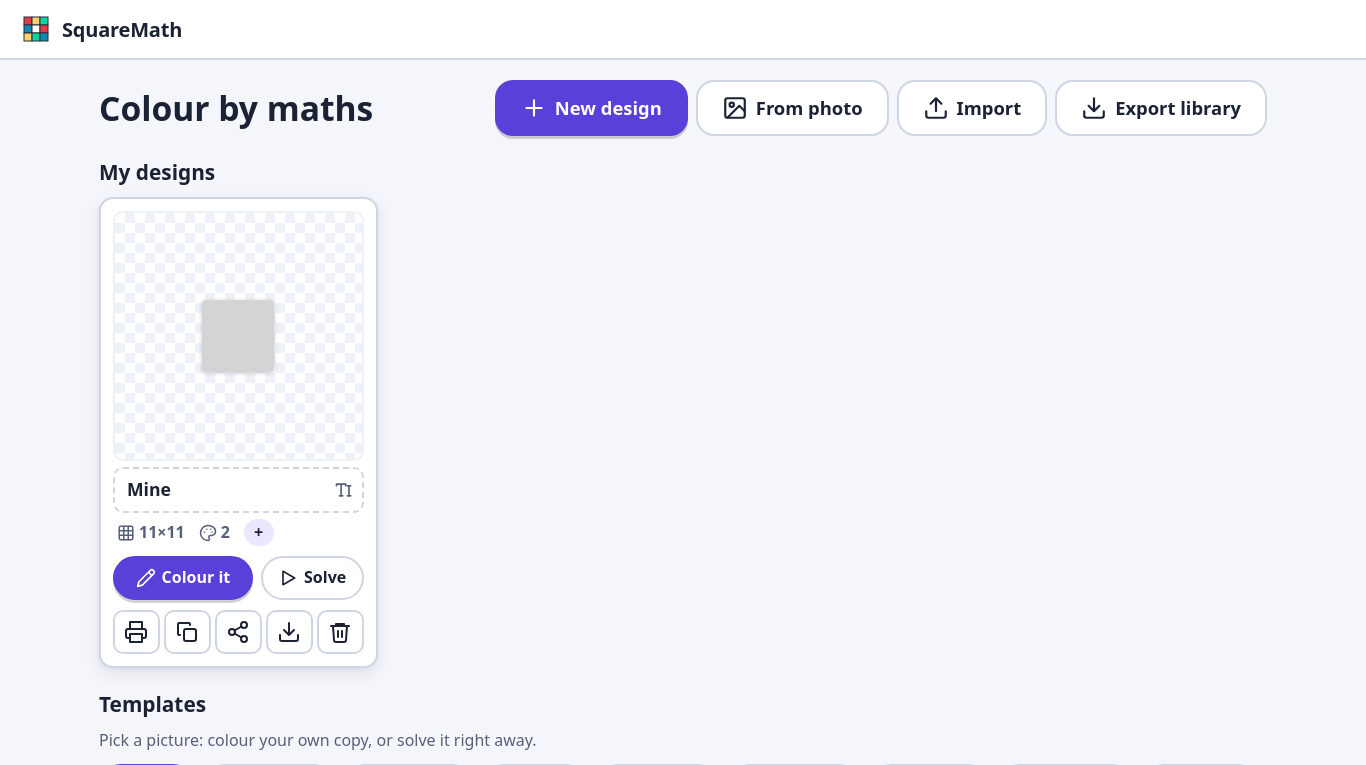
Test: app routes render without errors › stays on screen across in-app navigation
The width and height of the screenshot is (1366, 765).
Click the link to "#/d/own-1/solve" at (312, 578), box 261,556 -> 364,600
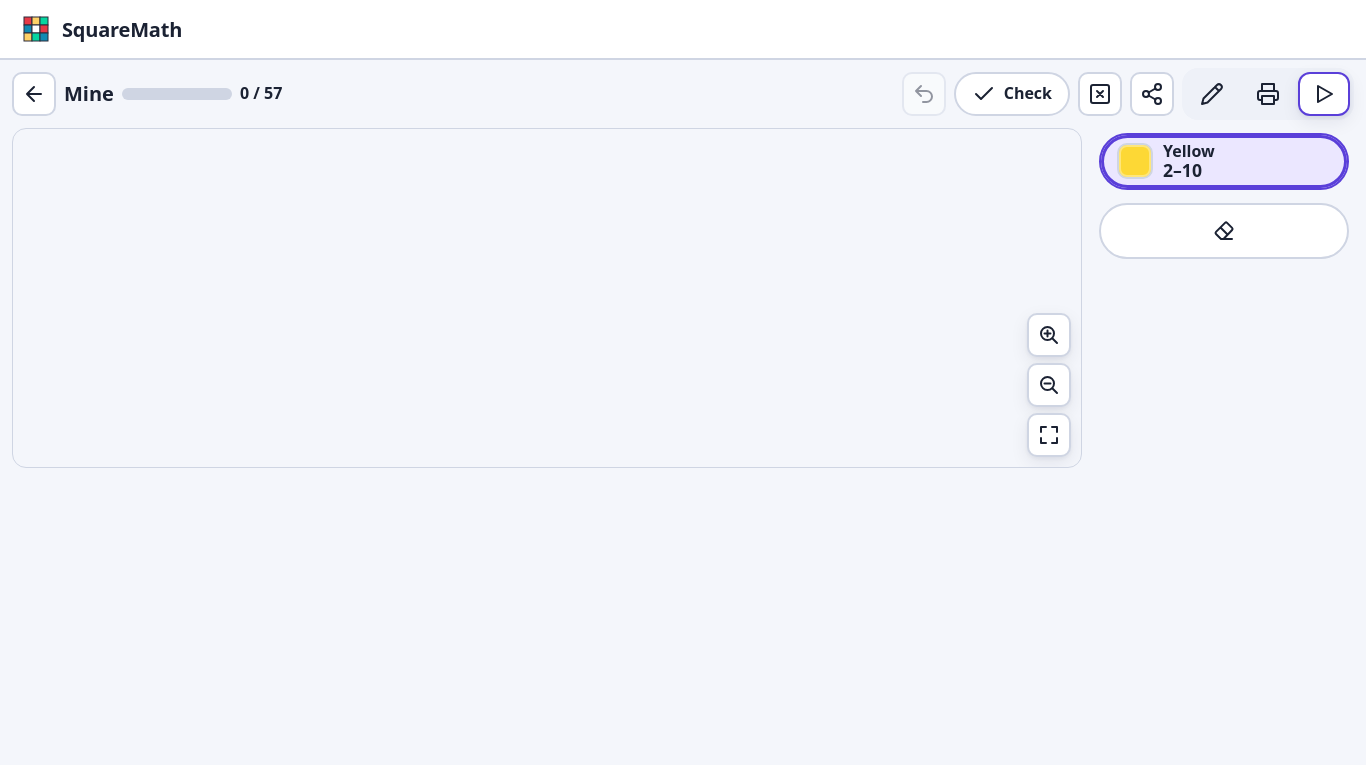
Click the link with class "brand" at (103, 29), box 16,7 -> 190,51
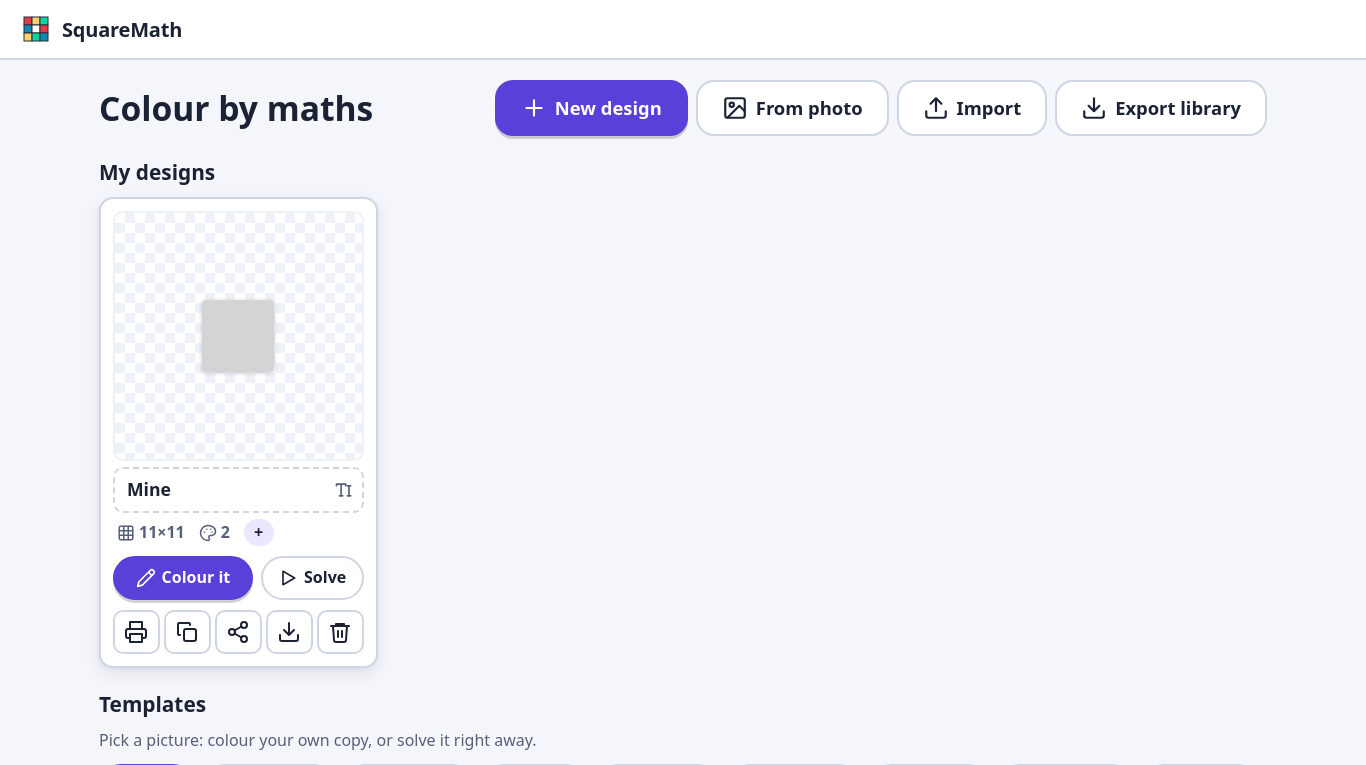
Expected: the text "My designs" is shown, 99,158 -> 215,186
